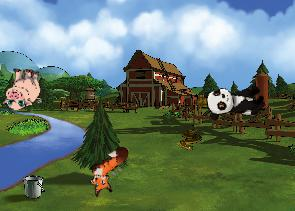fox: (79, 143, 141, 200)
panda: (203, 81, 267, 121)
pig: (2, 66, 43, 111)
